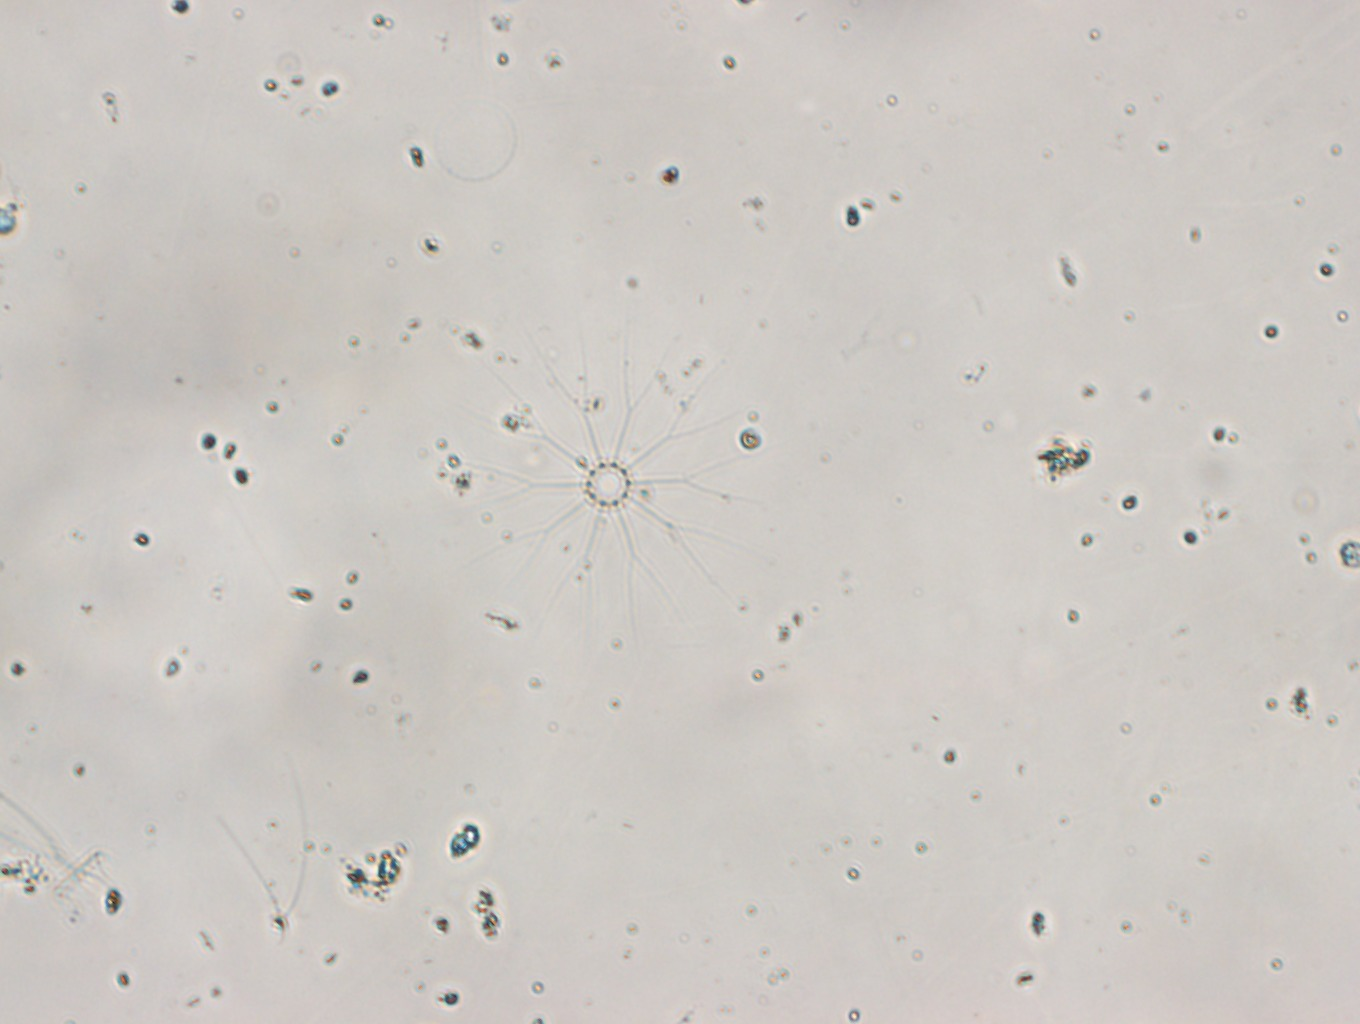bacteriastrum: (450, 319, 774, 640)
